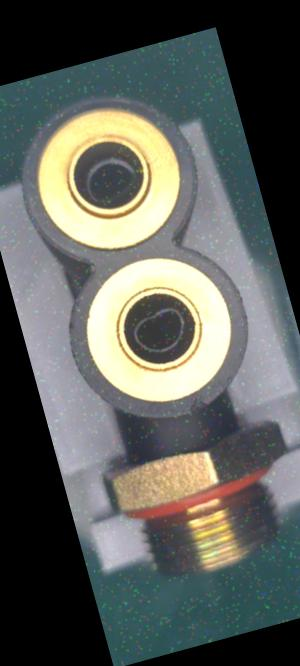bump: (177, 391, 218, 422)
off-centered: (77, 146, 147, 210), (123, 303, 195, 360)
